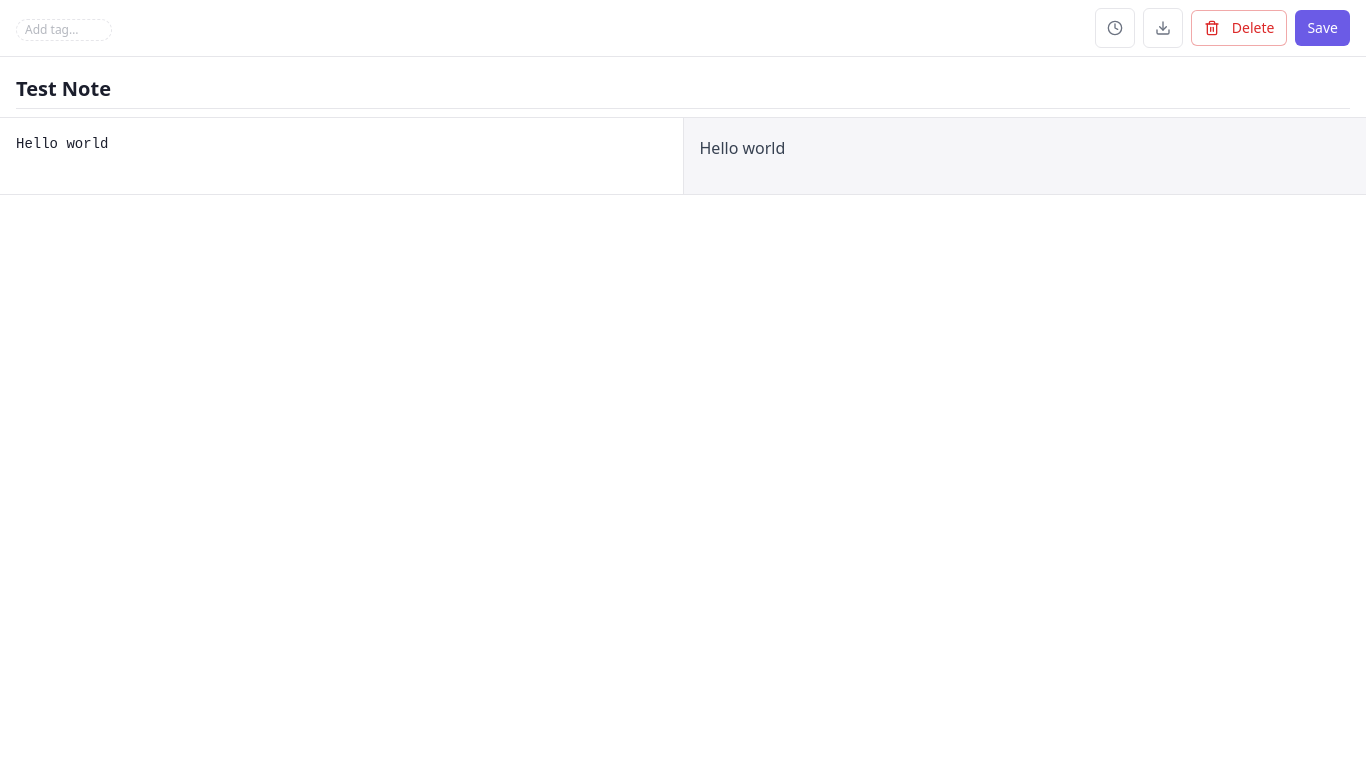
Test: VersionHistoryPanel — restore flow › after restore the version list is refreshed
Expected: the field showing "Test Note" is shown, [16, 69, 1350, 109]
Click the button named "version history" at (1115, 28), box [1095, 8, 1135, 48]
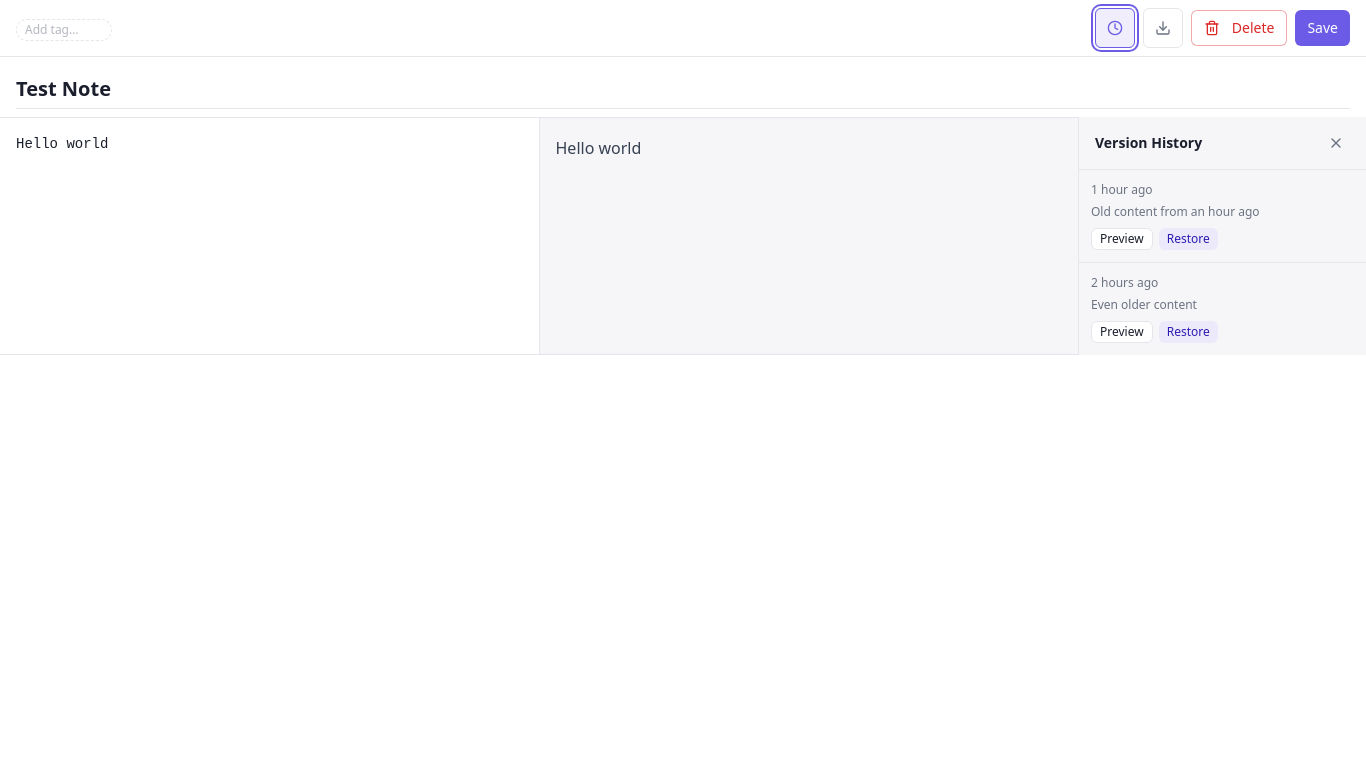
Expected: the heading "Version History" is shown, [1095, 133, 1202, 153]
Click the button "Restore" below "1 hour ago" at (1188, 239), box [1159, 228, 1218, 250]
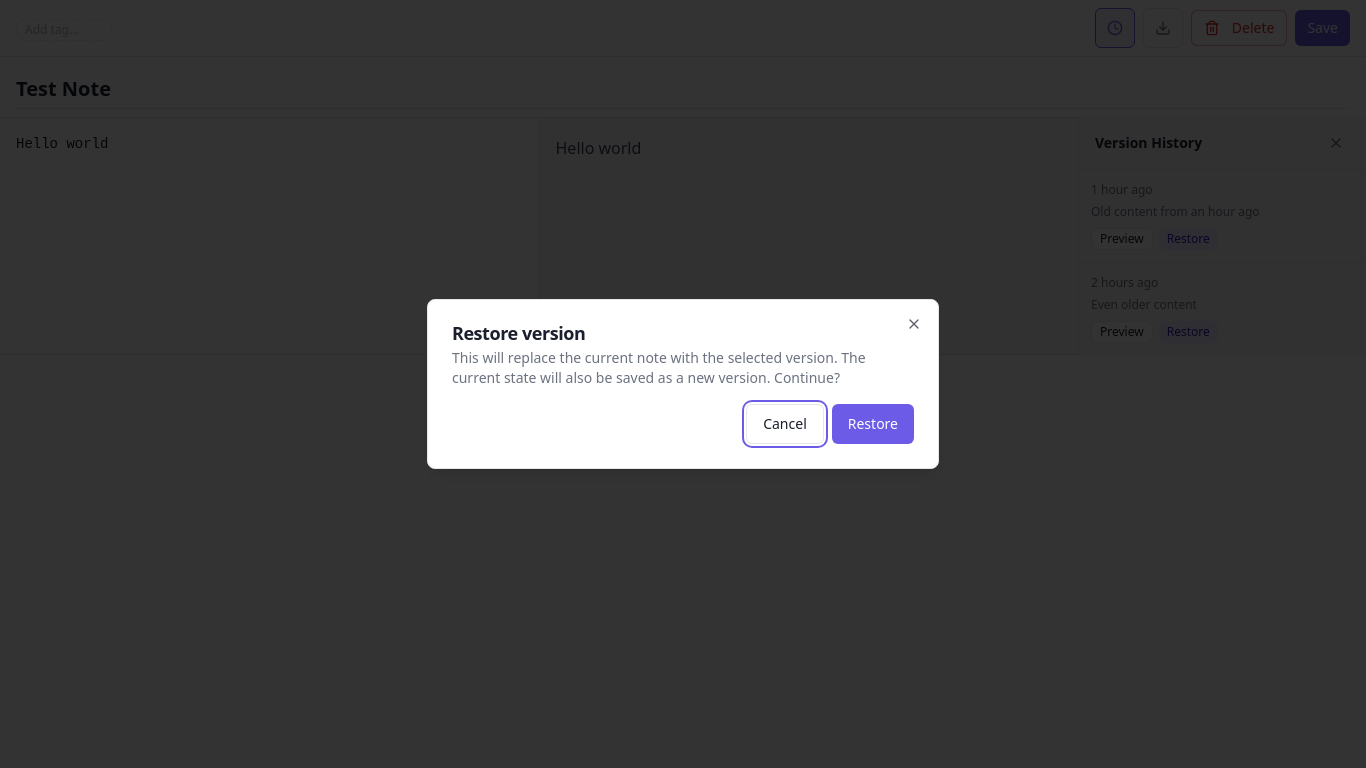
Click the button "Restore" at (873, 424), box [832, 404, 914, 444]
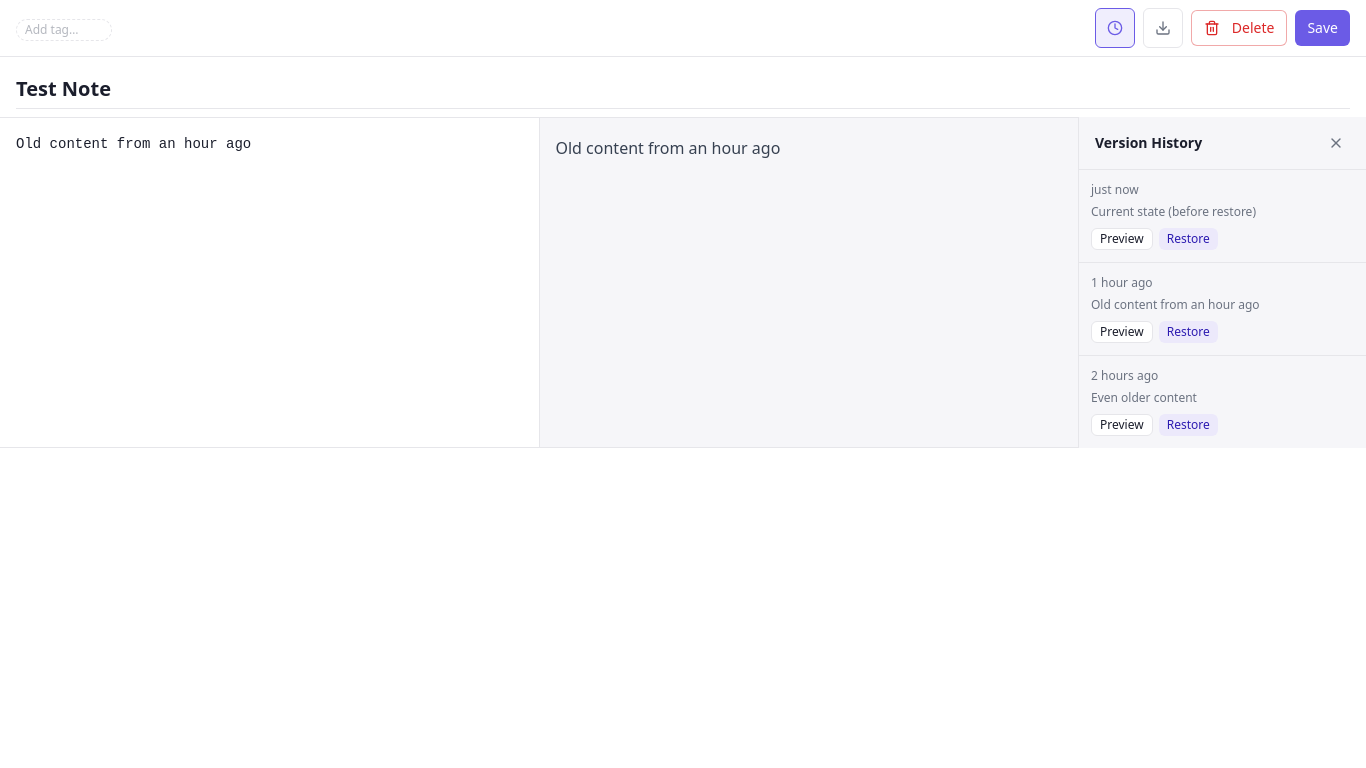
Expected: the text "Current state (before restore)" is shown, [1091, 203, 1256, 220]
